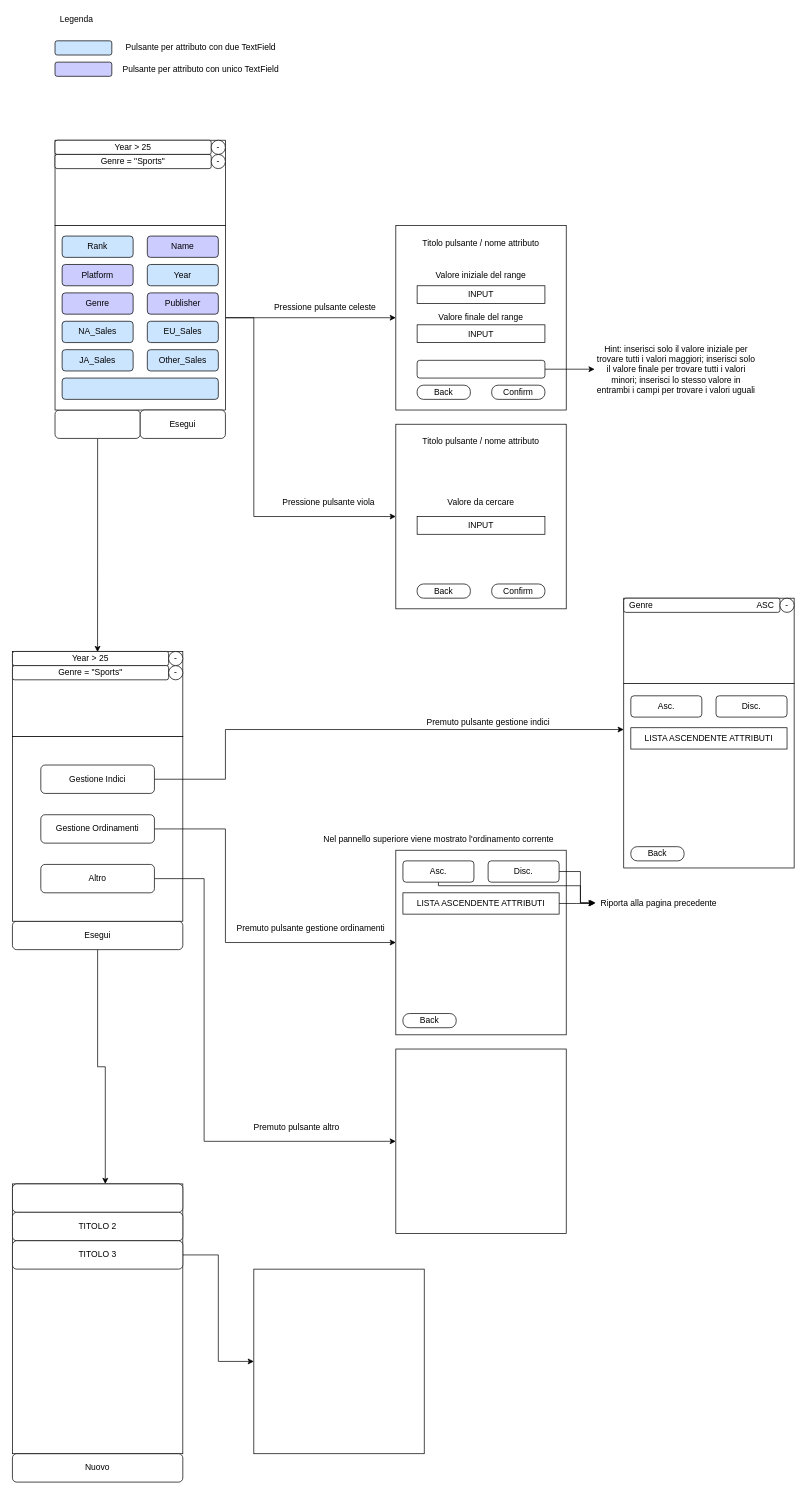
Some shapes in this 807 by 1495 pixel diagram are drawn without their labels. Each missing label, with the box of its shape:
Aiuto: (416, 360, 545, 378)
Avanzate: (54, 409, 140, 438)
Global_Sales: (61, 377, 218, 399)
POPUP CON INFO: (253, 1268, 424, 1454)
TITOLO 1: (12, 1183, 183, 1212)
